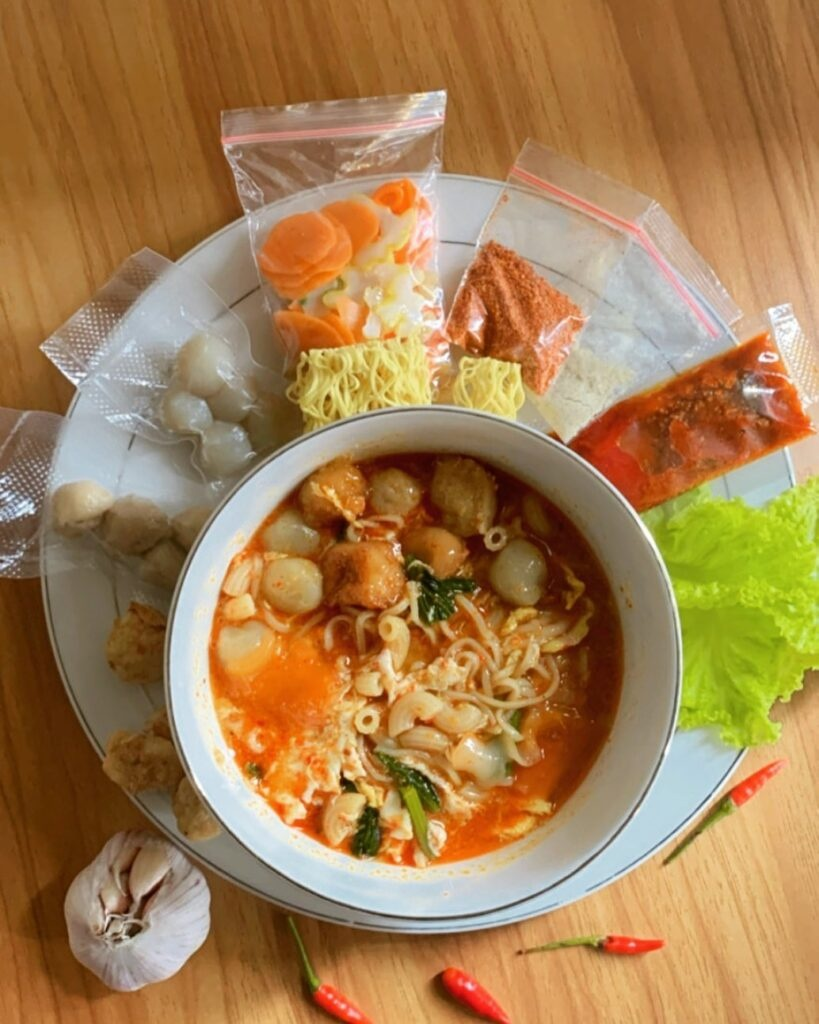seblak: (211, 447, 625, 868)
